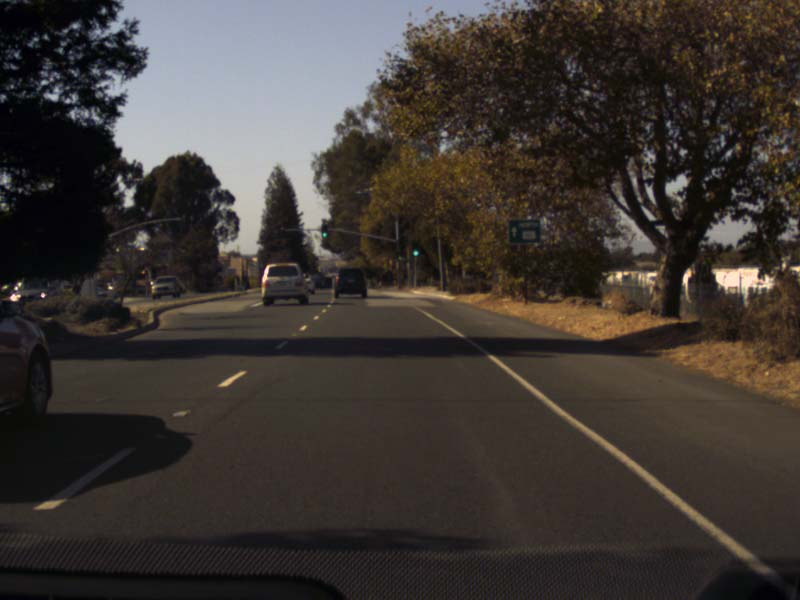Green: (411, 239, 419, 256), (321, 224, 327, 237), (397, 251, 403, 261)
Red: (140, 269, 145, 278)
Yellow: (278, 224, 284, 231)
